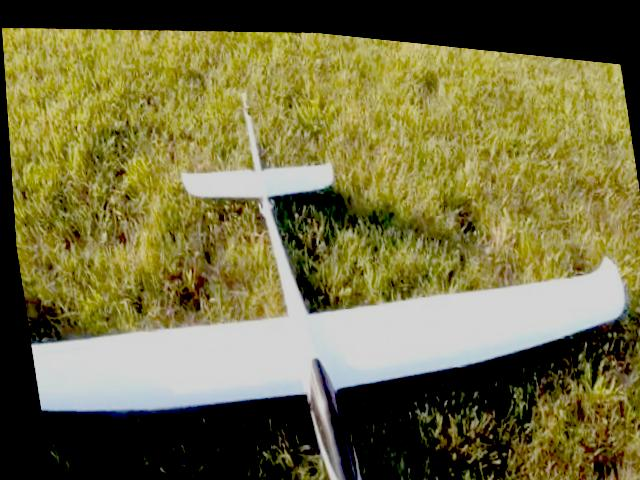iha: (2, 33, 640, 480)
